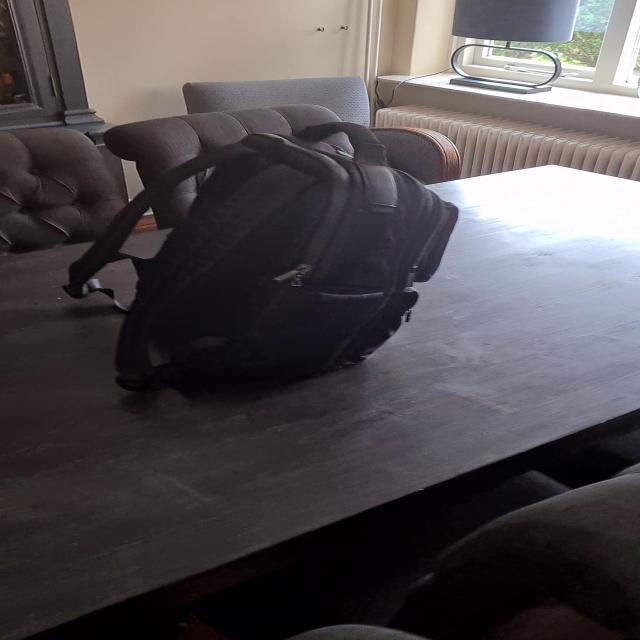backpack: (86, 122, 459, 398)
